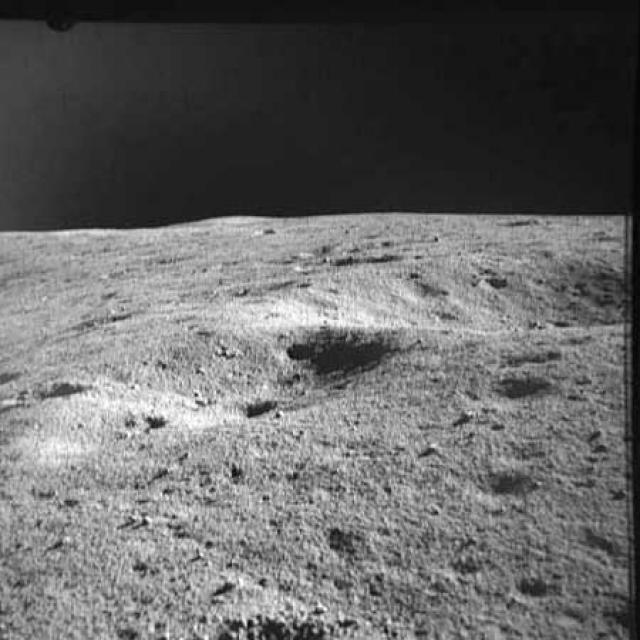crater: (71, 319, 401, 444), (271, 255, 628, 340), (456, 457, 554, 517), (464, 372, 557, 412), (196, 391, 284, 433), (21, 368, 93, 412), (476, 345, 573, 370), (512, 568, 572, 608), (276, 332, 325, 365), (398, 278, 456, 304), (125, 408, 172, 438), (473, 267, 515, 292), (246, 219, 282, 241)
rock: (209, 570, 252, 607), (159, 444, 192, 474), (588, 423, 615, 456), (52, 528, 82, 557), (412, 432, 445, 458), (448, 405, 481, 424), (125, 506, 152, 529)
